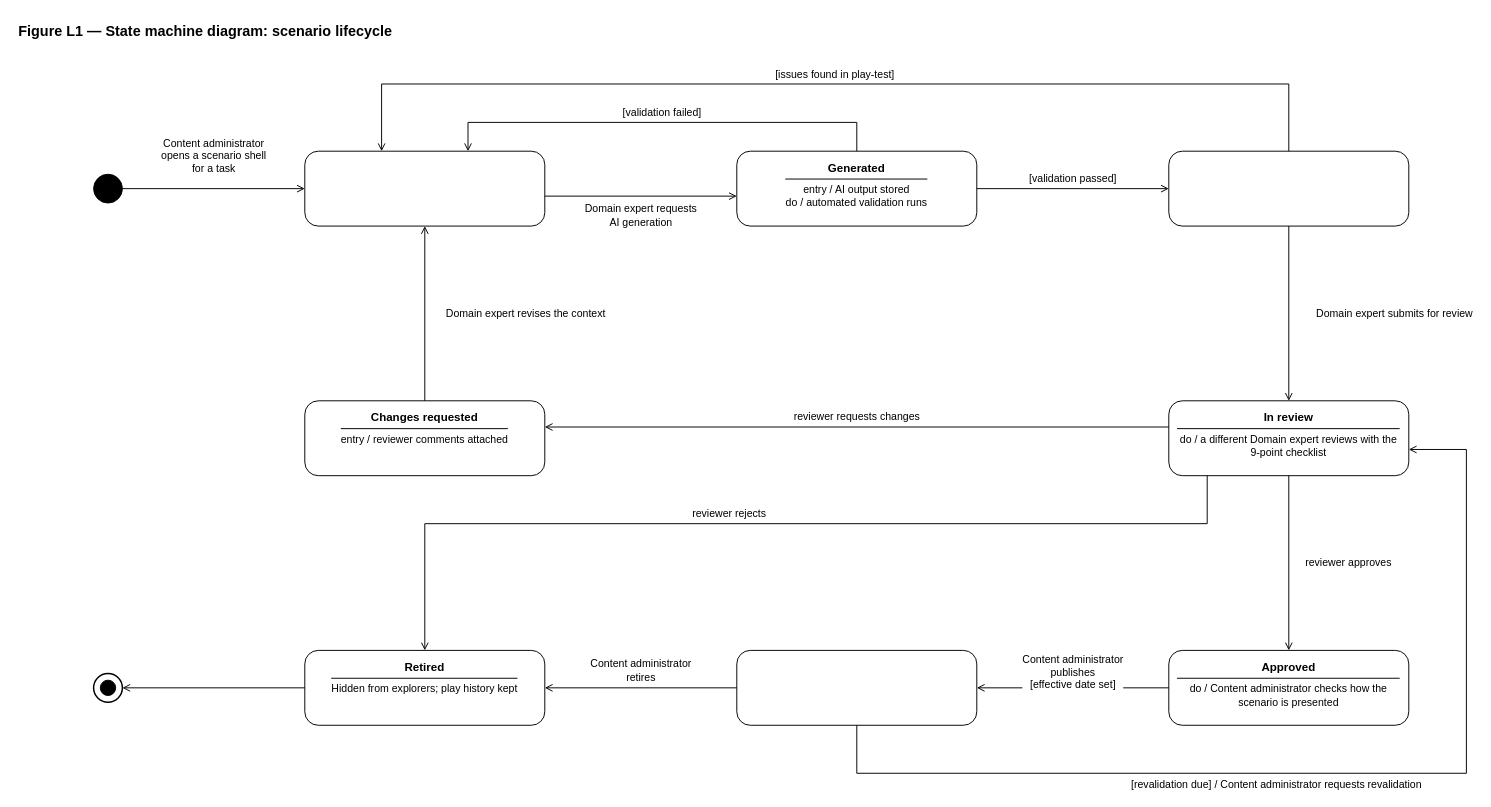
The diagram is 1491 pixels wide and 807 high, and some of its shapes have lost their labels. Each missing label, with the centre of its shape:
"Draft do / Domain expert writes or revises the scenario context" belongs at point 424,188.
"Published Visible to explorers from the effective date" belongs at point 856,687.
"Validated do / Domain expert play-tests the scenario" belongs at point 1288,188.
